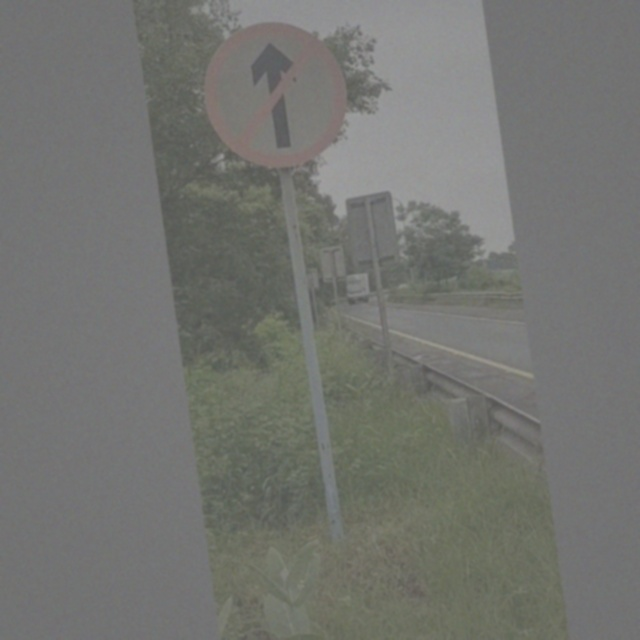No_Entry: (195, 14, 357, 175)
